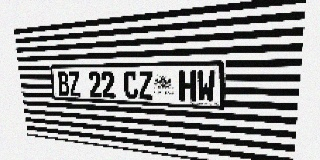2: (101, 71, 115, 98), (88, 71, 102, 97)
B: (57, 72, 70, 96)
C: (123, 71, 138, 99)
H: (179, 70, 196, 102)
W: (197, 70, 215, 103)
Z: (138, 71, 153, 100), (68, 72, 81, 97)
